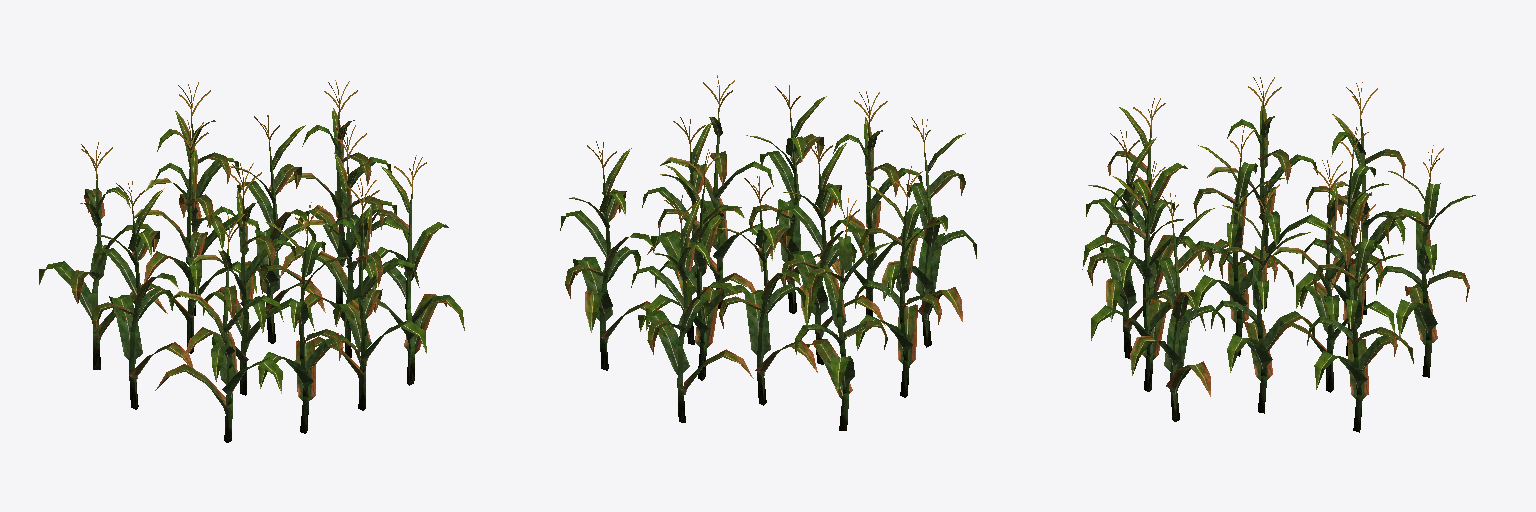
The picture shows the model from 3 angles: view 1: azimuth 30°, elevation 25°; view 2: azimuth 150°, elevation 25°; view 3: azimuth 270°, elevation 25°; orthographic projection.
Visible parts, largest first — view 1: default; view 2: default; view 3: default.
Part boxes in pixels (x1,y1,x2,y2): default: (39, 80, 464, 442); default: (560, 75, 976, 430); default: (1082, 77, 1475, 432).
Size of the model in its own units: 6.65 by 4.22 by 6.58.
1 materials, 1 textured.